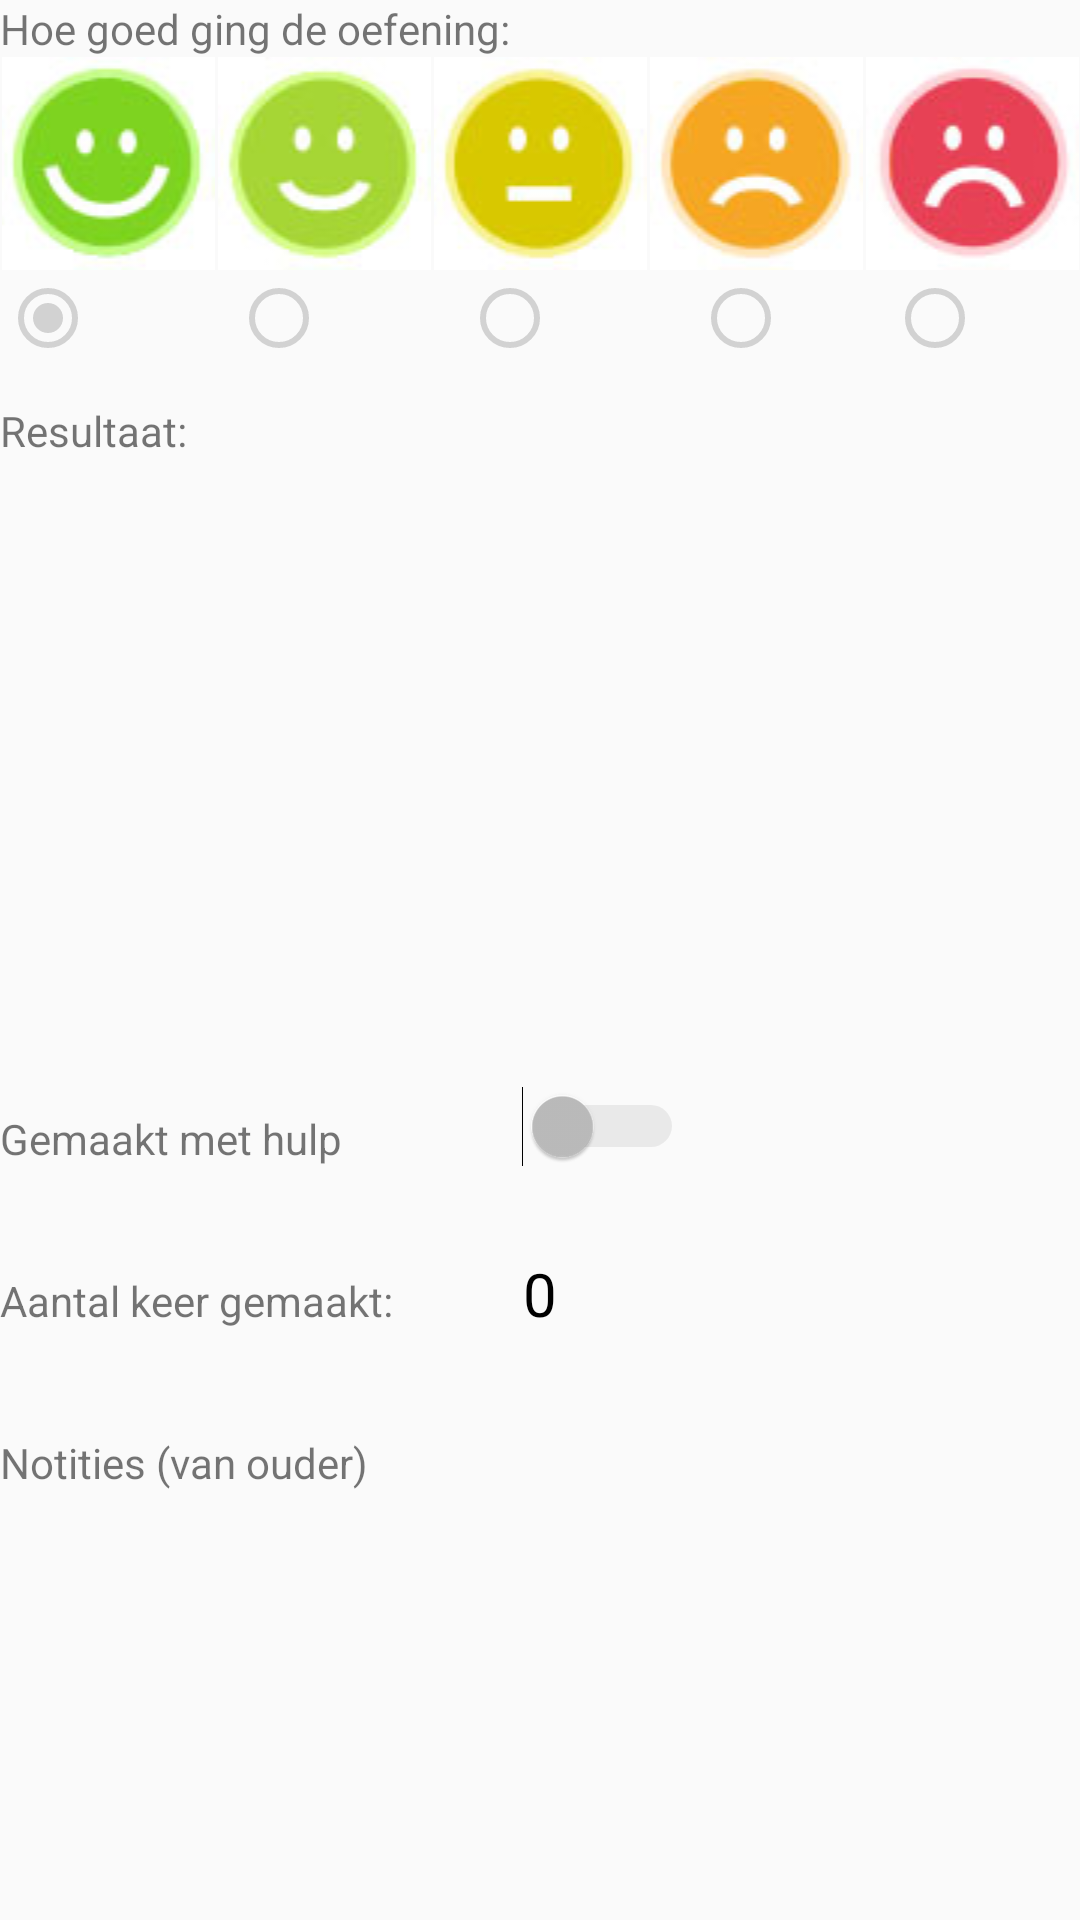

Where to tap for icons on this 1080*1920 app screen, as point (x, y):
happy: point (323, 164)
natural: point (538, 163)
reallyhappy: point (106, 163)
reallysad: point (973, 162)
sad: point (755, 163)
